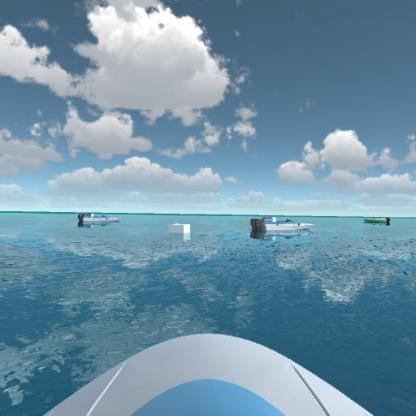usv0: (360, 212, 393, 227)
usv1: (247, 211, 316, 238), (76, 206, 127, 228)
